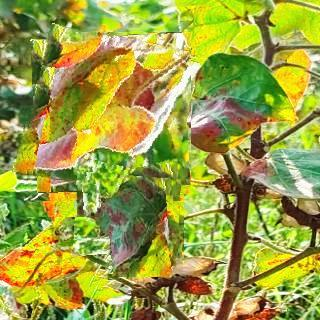blight: (21, 32, 191, 202), (77, 171, 181, 274), (0, 217, 112, 296)
